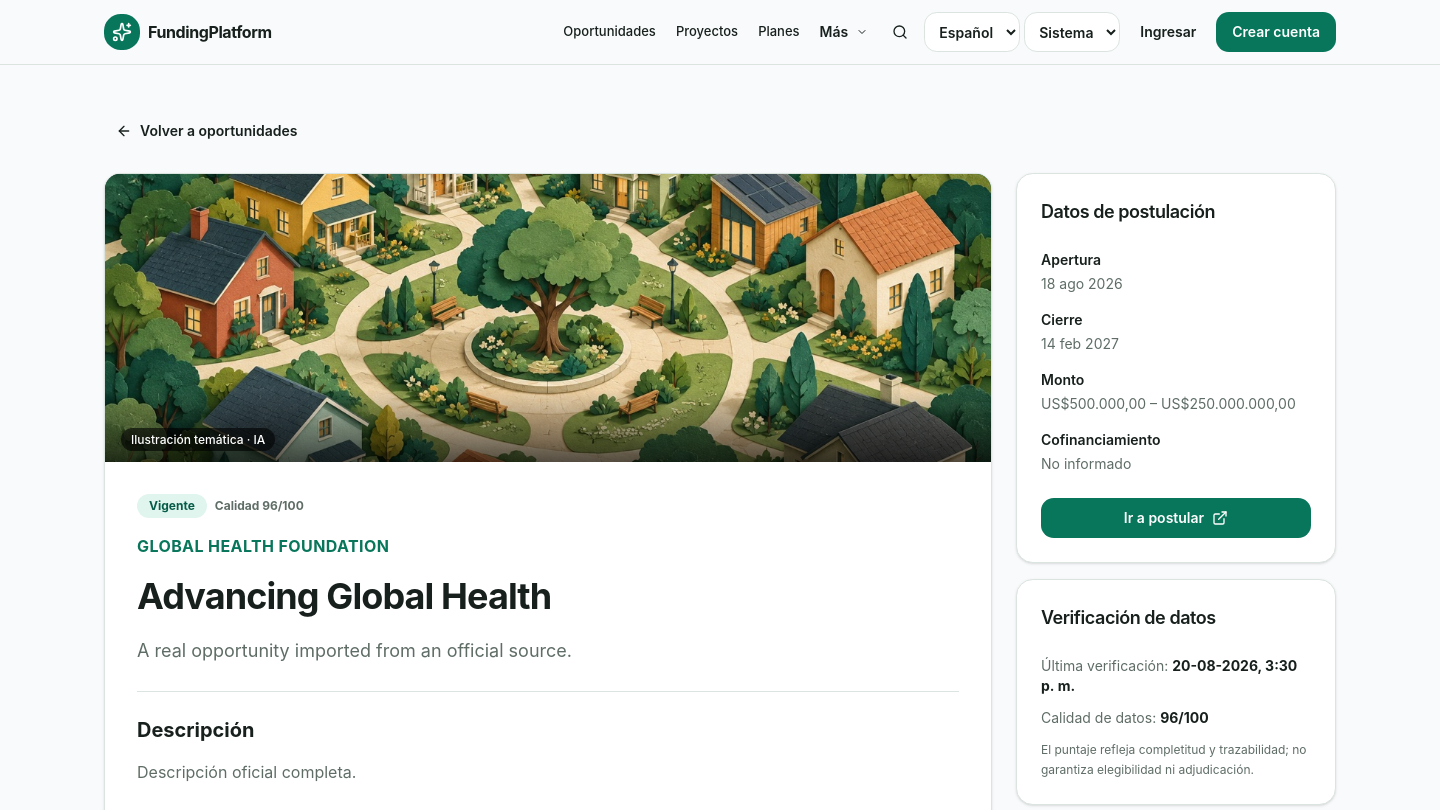
catálogo público de oportunidades › confirma explícitamente el hostname antes de abrir la postulación externa
The width and height of the screenshot is (1440, 810).
Expected: the link "Continuar a apply.foundation.example" is not shown
Step 1. Click the button "Ir a postular" → coordinates (1176, 518), box [1041, 498, 1311, 538]
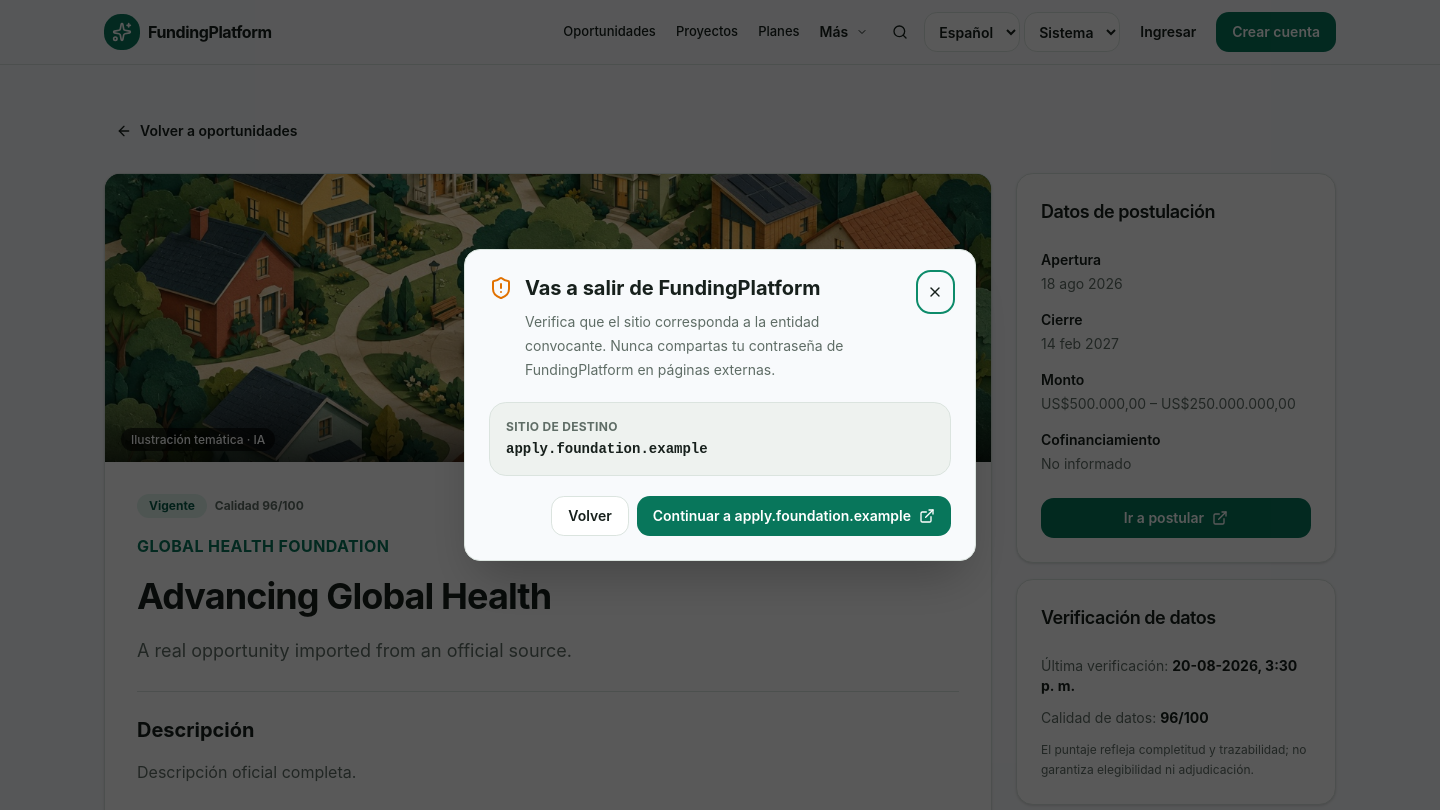
Result: the dialog "Vas a salir de FundingPlatform" shows "apply.foundation.example" at [506, 441, 708, 457]
